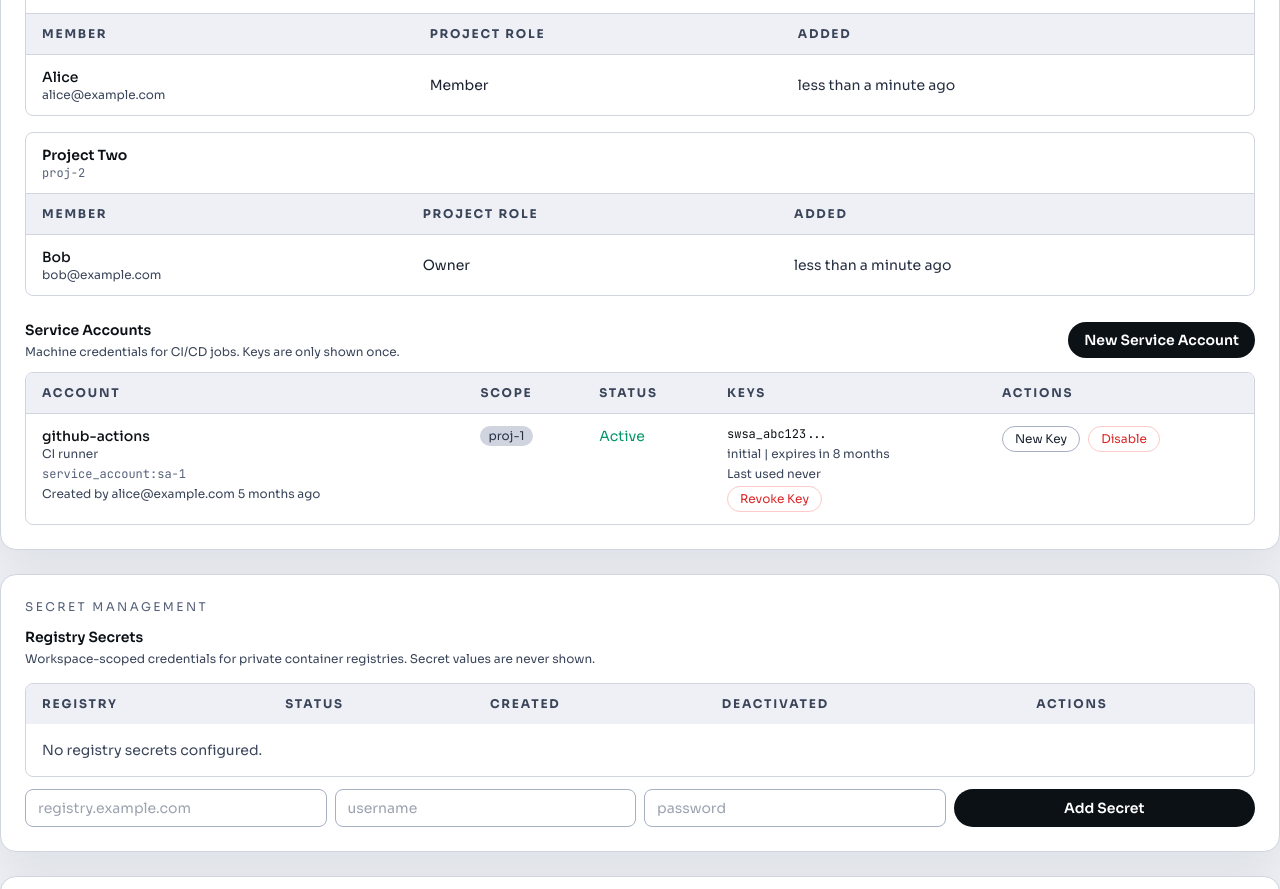
Test: SettingsPage › creates a replacement key for an account
(page scrolled)
Click the button "New Key" at (1041, 439), box [1002,426,1080,452]
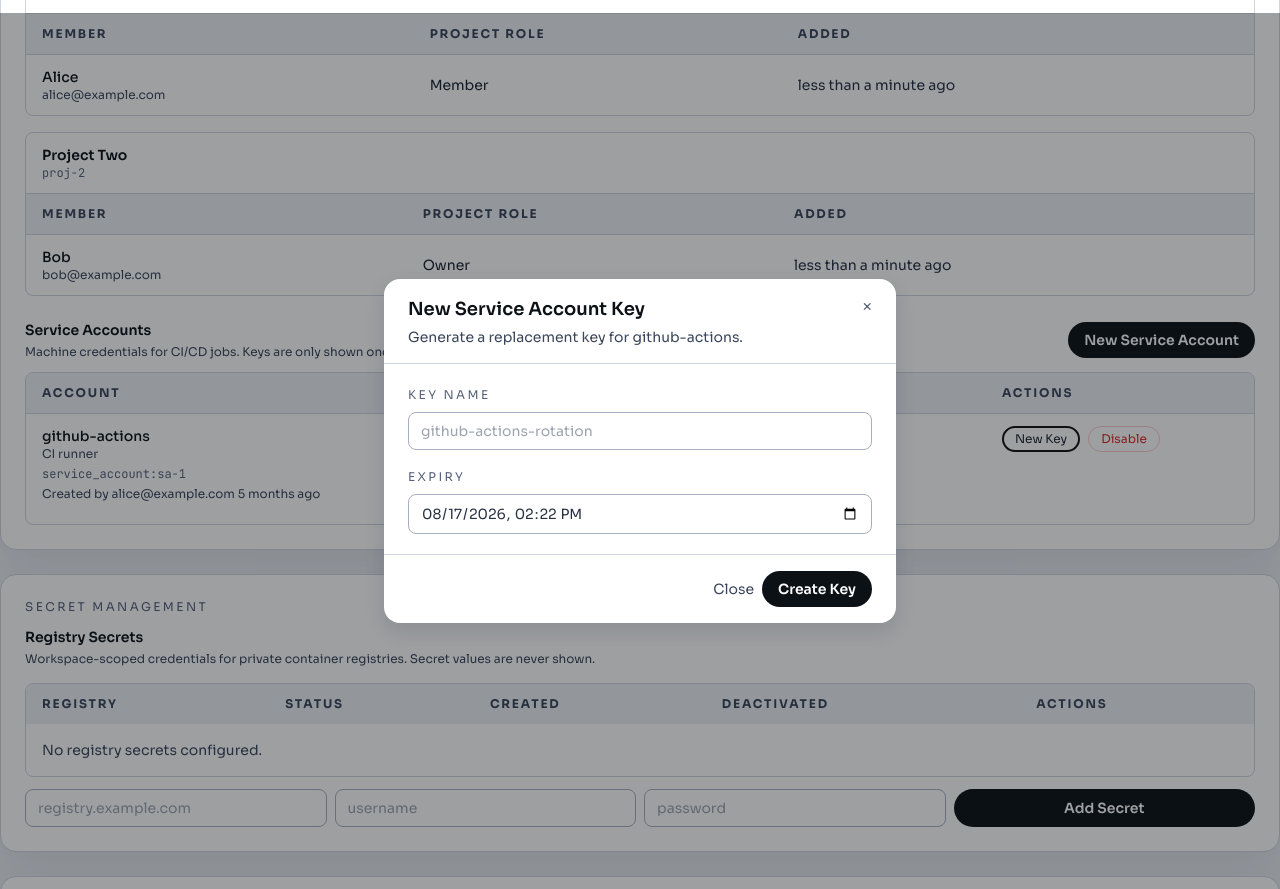
Type "rotation" into the field labelled "Key Name" at (640, 431), box [408,412,872,450]
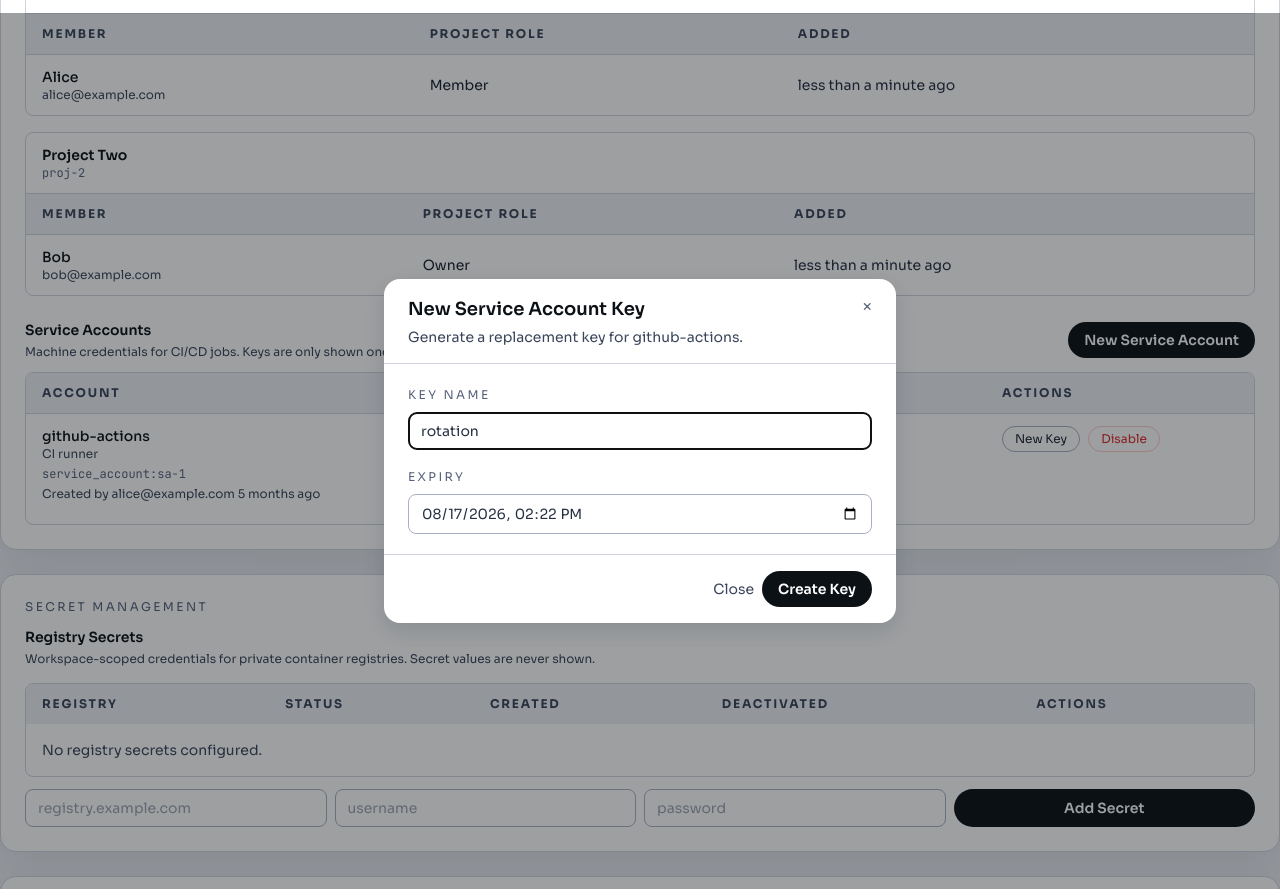
Click the button "Create Key" at (817, 589), box [762,571,872,607]
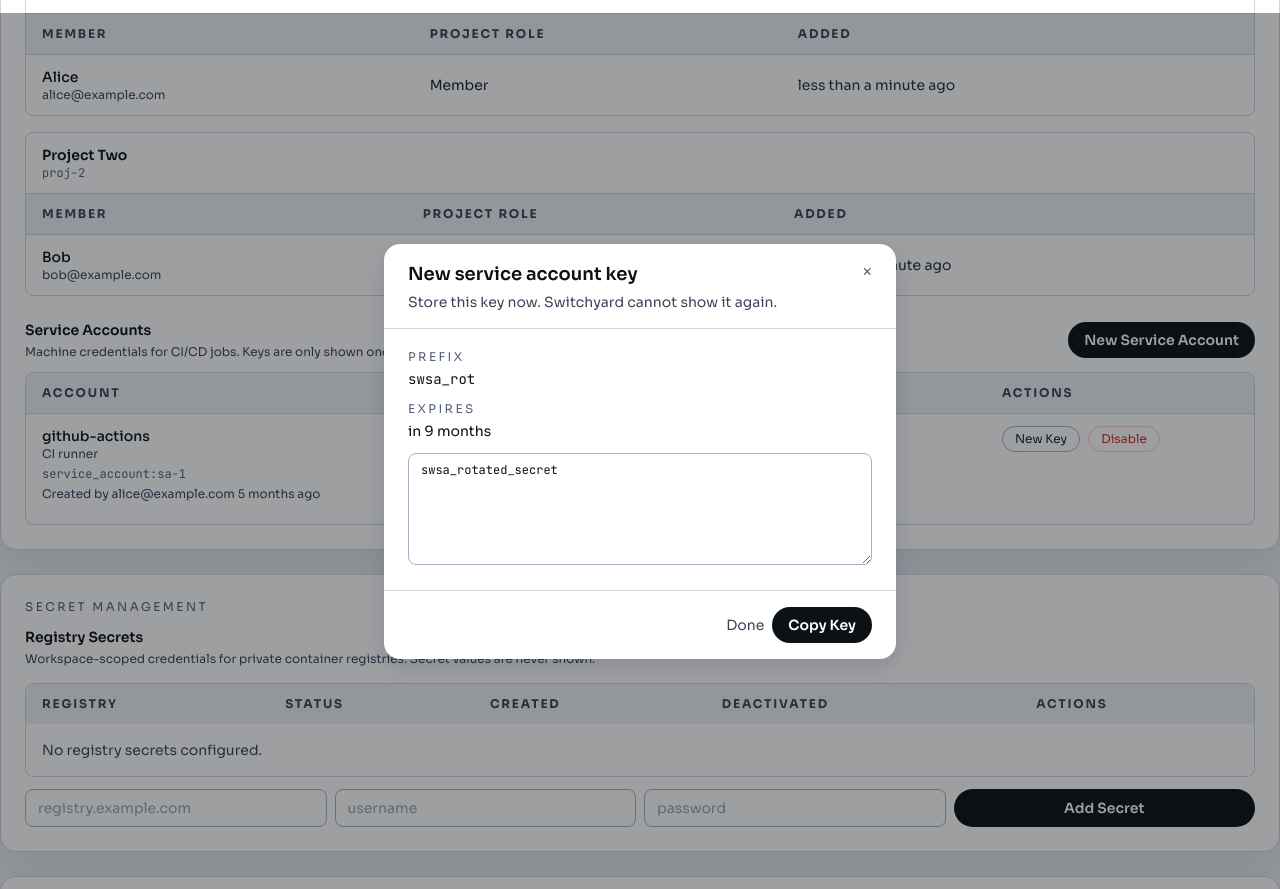
Now the text box showing "swsa_rotated_secret" is shown, box [408,452,872,564]
